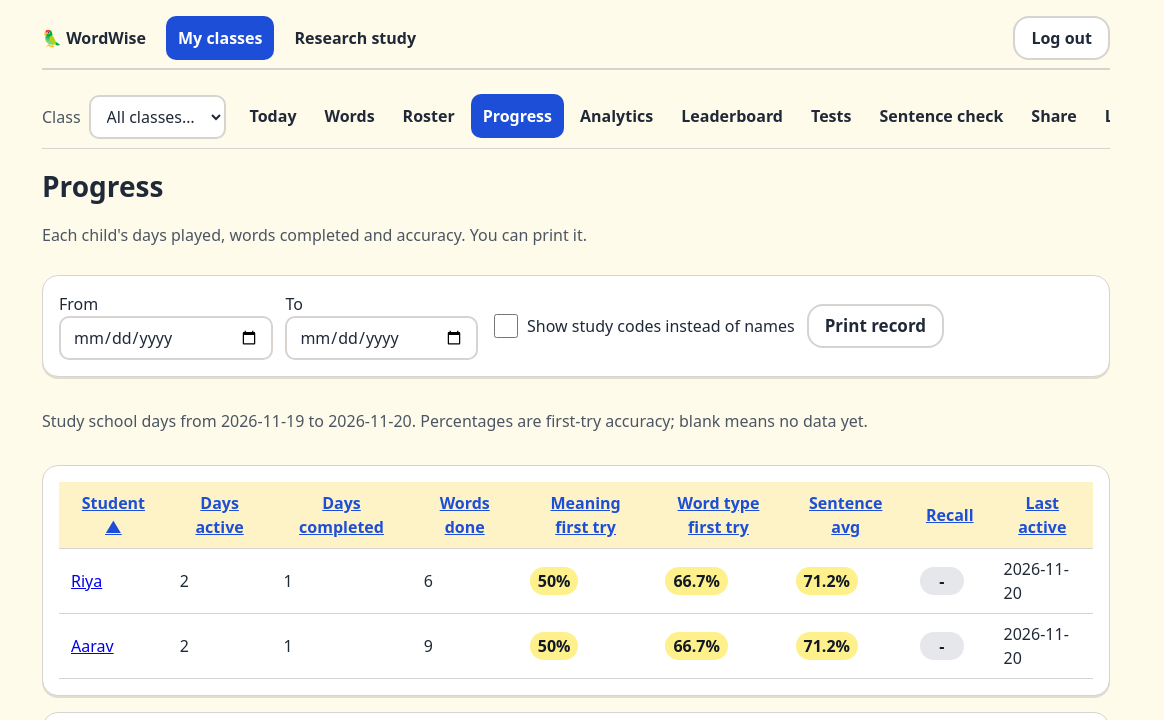
Test case: teacher progress page › the study-code toggle hides every first name, on screen and in the print grid
Check: the link "Aarav" is shown, box [71,635,114,657]
Click the checkbox labelled "Show study codes instead of names": (506, 326) [494,314,518,338]
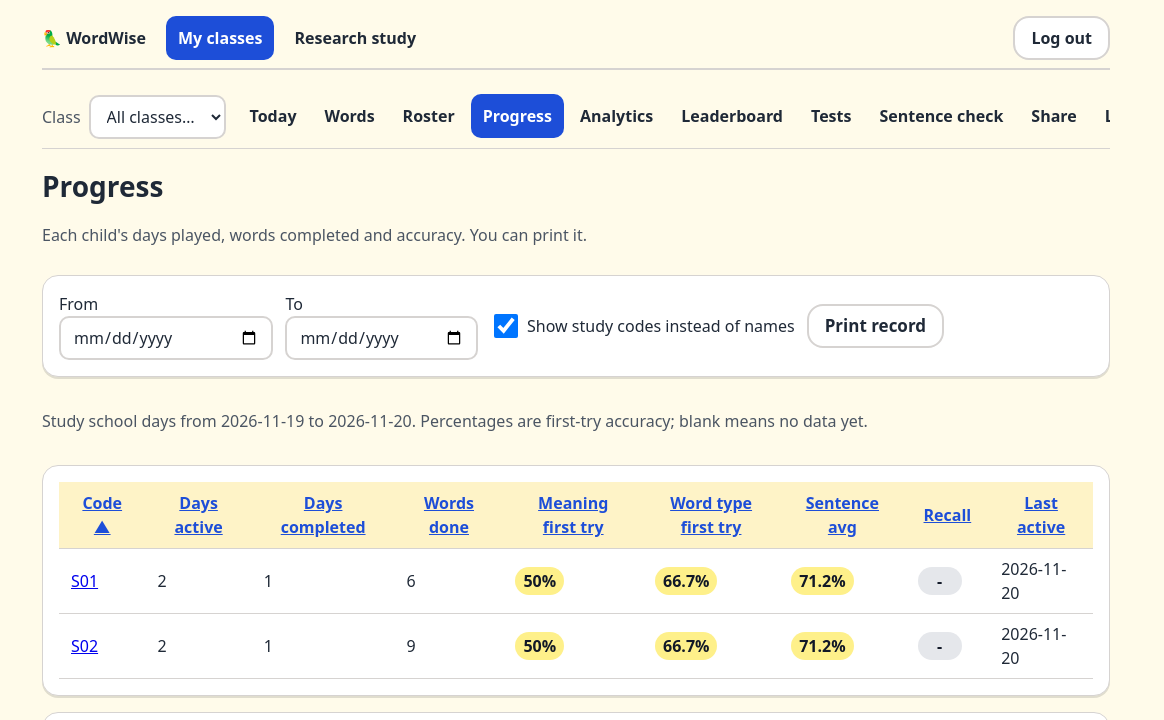
Check: the text "Riya" is gone
Check: the text "Aarav" is gone
